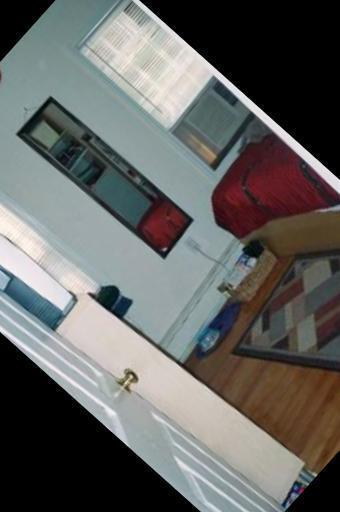Otro Obstaculo: (210, 231, 291, 313), (179, 291, 250, 364)
Puerta: (0, 104, 340, 512)
